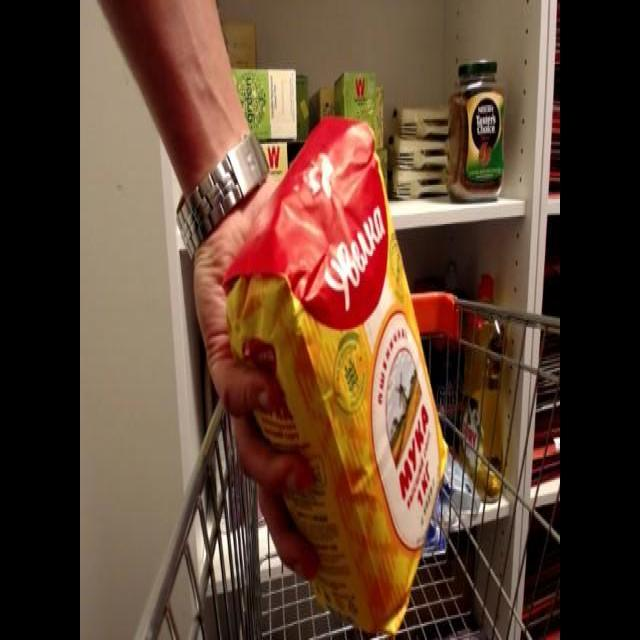Flour: (221, 104, 446, 628)
